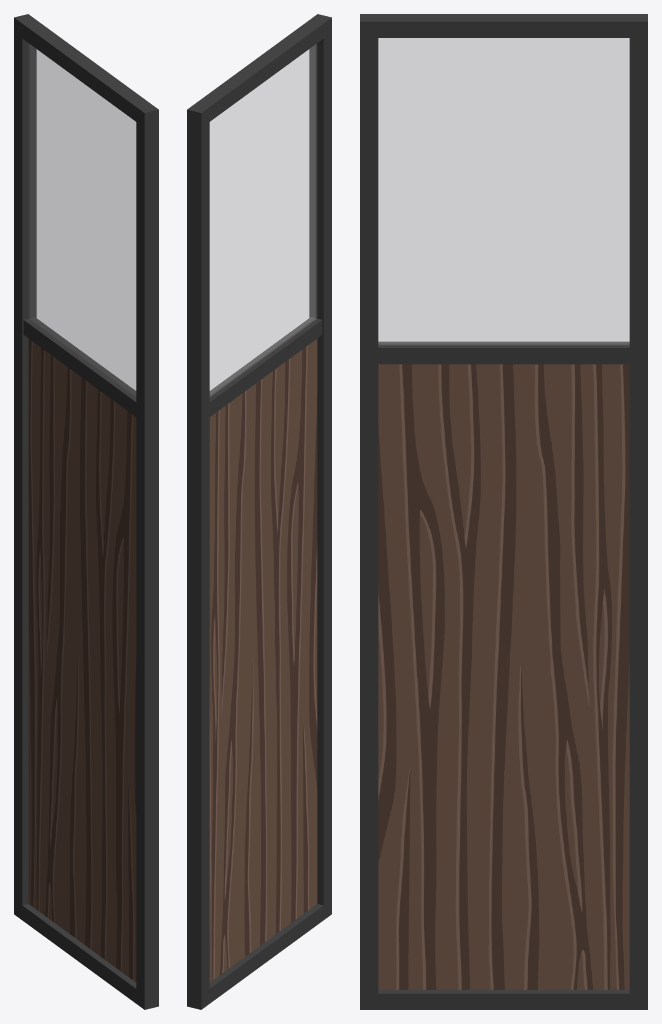
Rendered from Seperator10.fbx.
3 renders of one model, left to right at view 1: azimuth 30°, elevation 25°; view 2: azimuth 150°, elevation 25°; view 3: azimuth 270°, elevation 25°, orthographic. The views are drawn at different scales.
Visible parts, largest first — view 1: Seperator10; view 2: Seperator10; view 3: Seperator10.
Part boxes in pixels (x1,y1,x2,y2): Seperator10: (14,14,158,1009); Seperator10: (187,14,331,1009); Seperator10: (360,14,647,1009).
Bounding box in the file's own units: 0.0501 × 0.7923 × 3.
